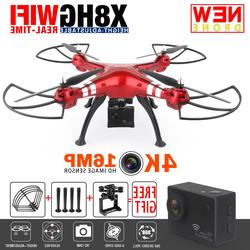drone: (5, 45, 242, 147)
